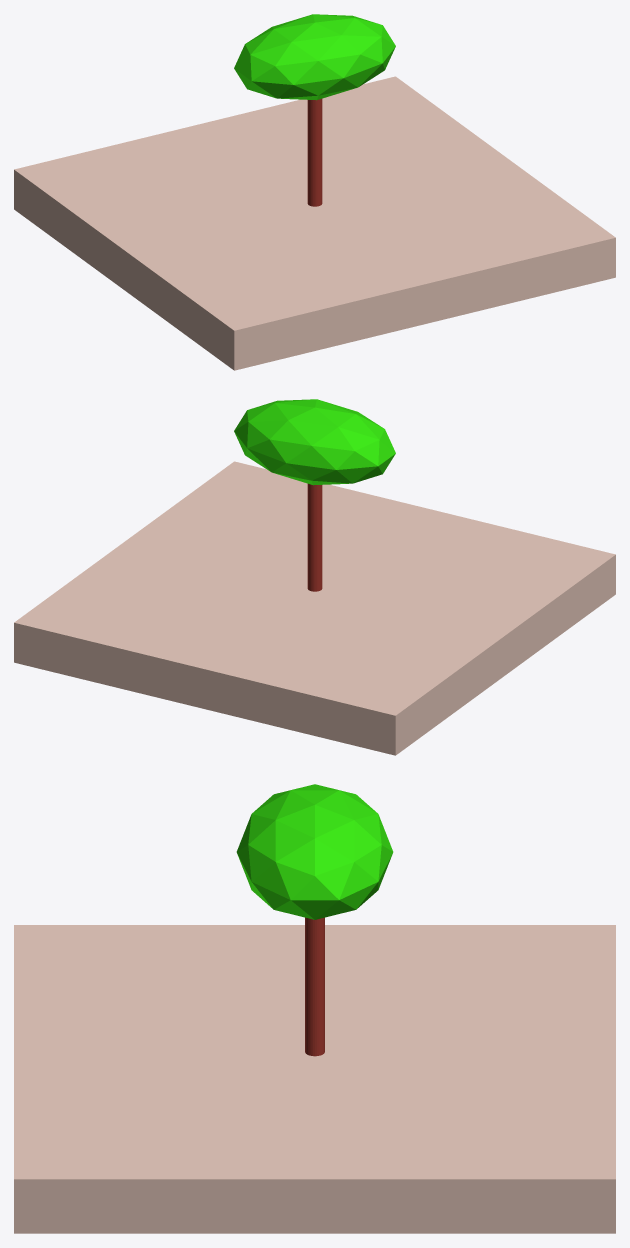
The model's file is platform.glb.
The picture shows the model from 3 angles, top to bottom: view 1: azimuth 30°, elevation 25°; view 2: azimuth 150°, elevation 25°; view 3: azimuth 270°, elevation 25°; orthographic projection. The views are drawn at different scales.
Parts seen in each view (by area): view 1: Ground, Leaf, Trunk; view 2: Ground, Leaf, Trunk; view 3: Ground, Leaf, Trunk.
Boxes of the visible parts, bbox=[...] form: Ground: bbox=[14, 76, 615, 370]; Leaf: bbox=[234, 14, 395, 100]; Trunk: bbox=[307, 98, 322, 206]; Ground: bbox=[14, 461, 615, 755]; Leaf: bbox=[234, 399, 395, 485]; Trunk: bbox=[307, 483, 322, 591]; Ground: bbox=[14, 925, 615, 1233]; Leaf: bbox=[236, 784, 393, 919]; Trunk: bbox=[305, 917, 324, 1056].
Bounding box in the file's own units: 20 × 11.06 × 20.
